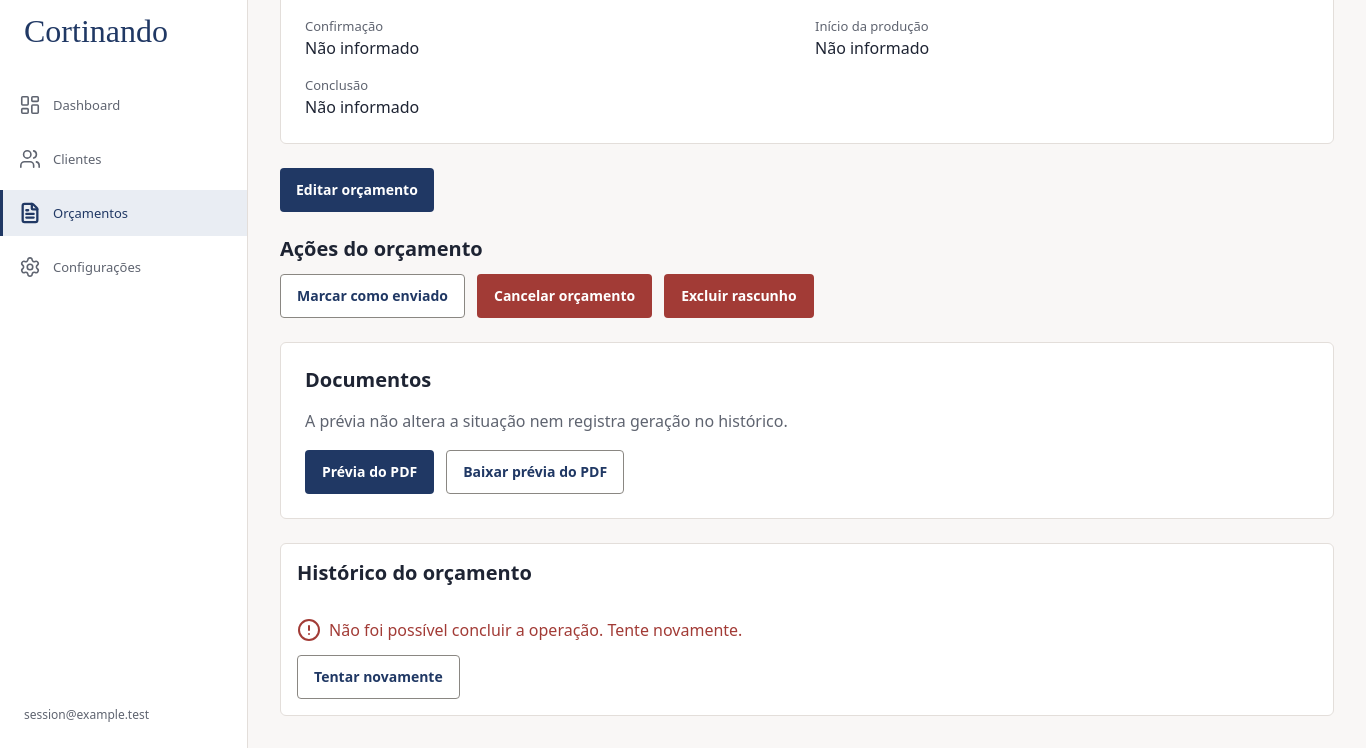
Test case: history failure retries independently while the quote remains visible
The width and height of the screenshot is (1366, 748).
(page scrolled)
Expected: the message "Não foi possível concluir a operação. Tente novamente." is shown, [297, 618, 742, 643]
Step 1. Click the button "Tentar novamente" → (378, 677), box [297, 655, 460, 699]
(page scrolled)
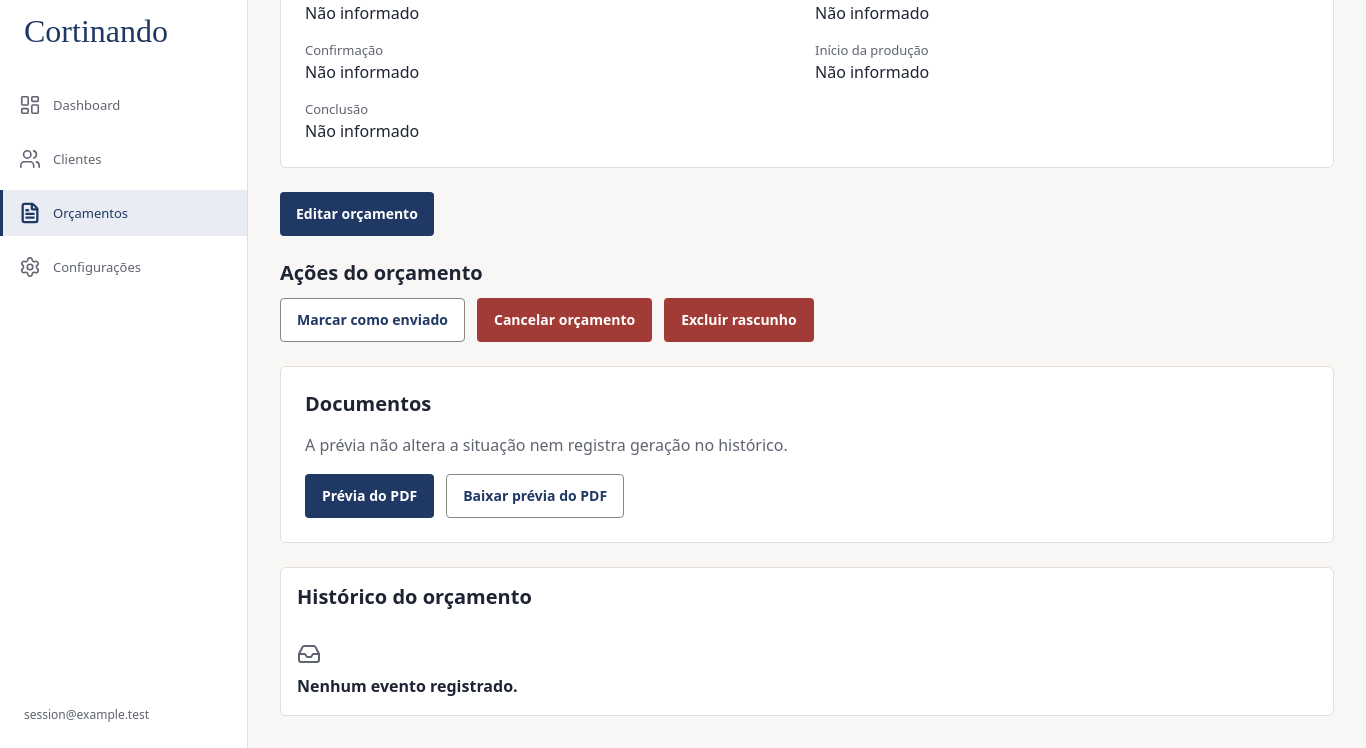
Now the text "Nenhum evento registrado." is shown, box [297, 674, 518, 699]
